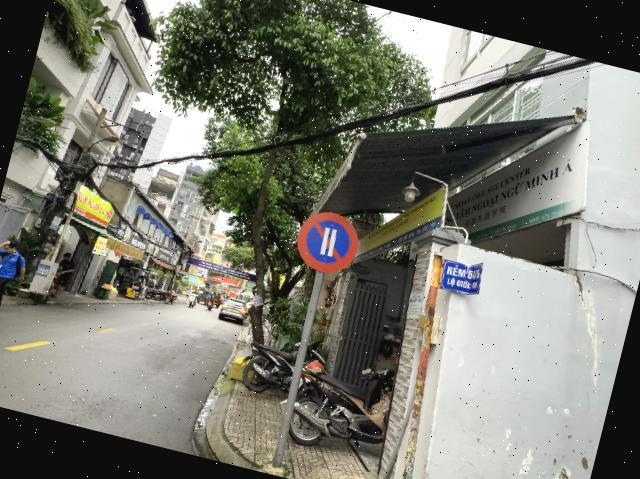cam-do-xe-ngay-chan: (290, 204, 364, 278)
